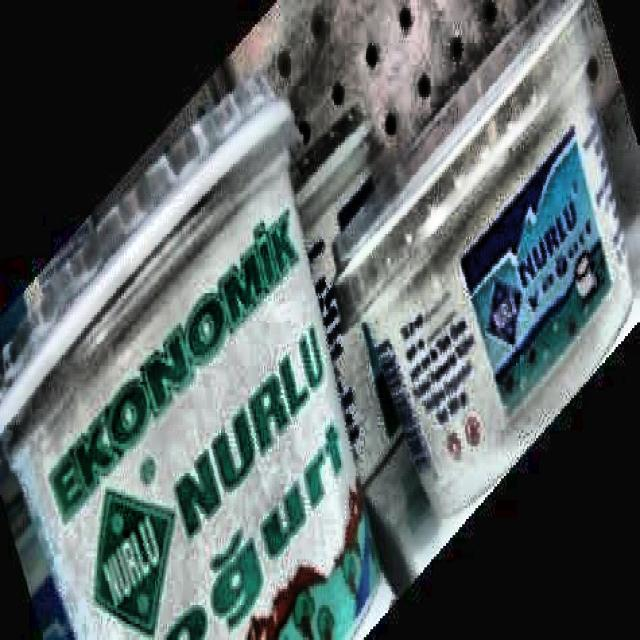plastic: (0, 82, 379, 637), (338, 5, 632, 515)
